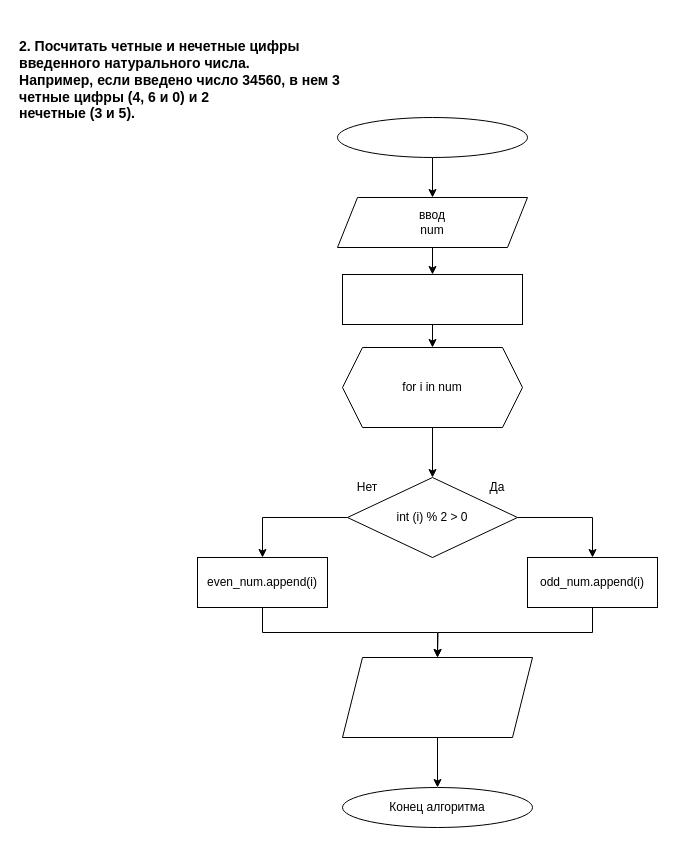
This 675x845 diagram has some shape labels left out. Each missing label, with the box of its shape:
even_num = [ ] odd_num = [ ]: (342, 274, 522, 324)
вывод return count (even_num) return count (odd_num): (342, 656, 532, 738)
Начало алгоритма: (336, 116, 528, 158)
